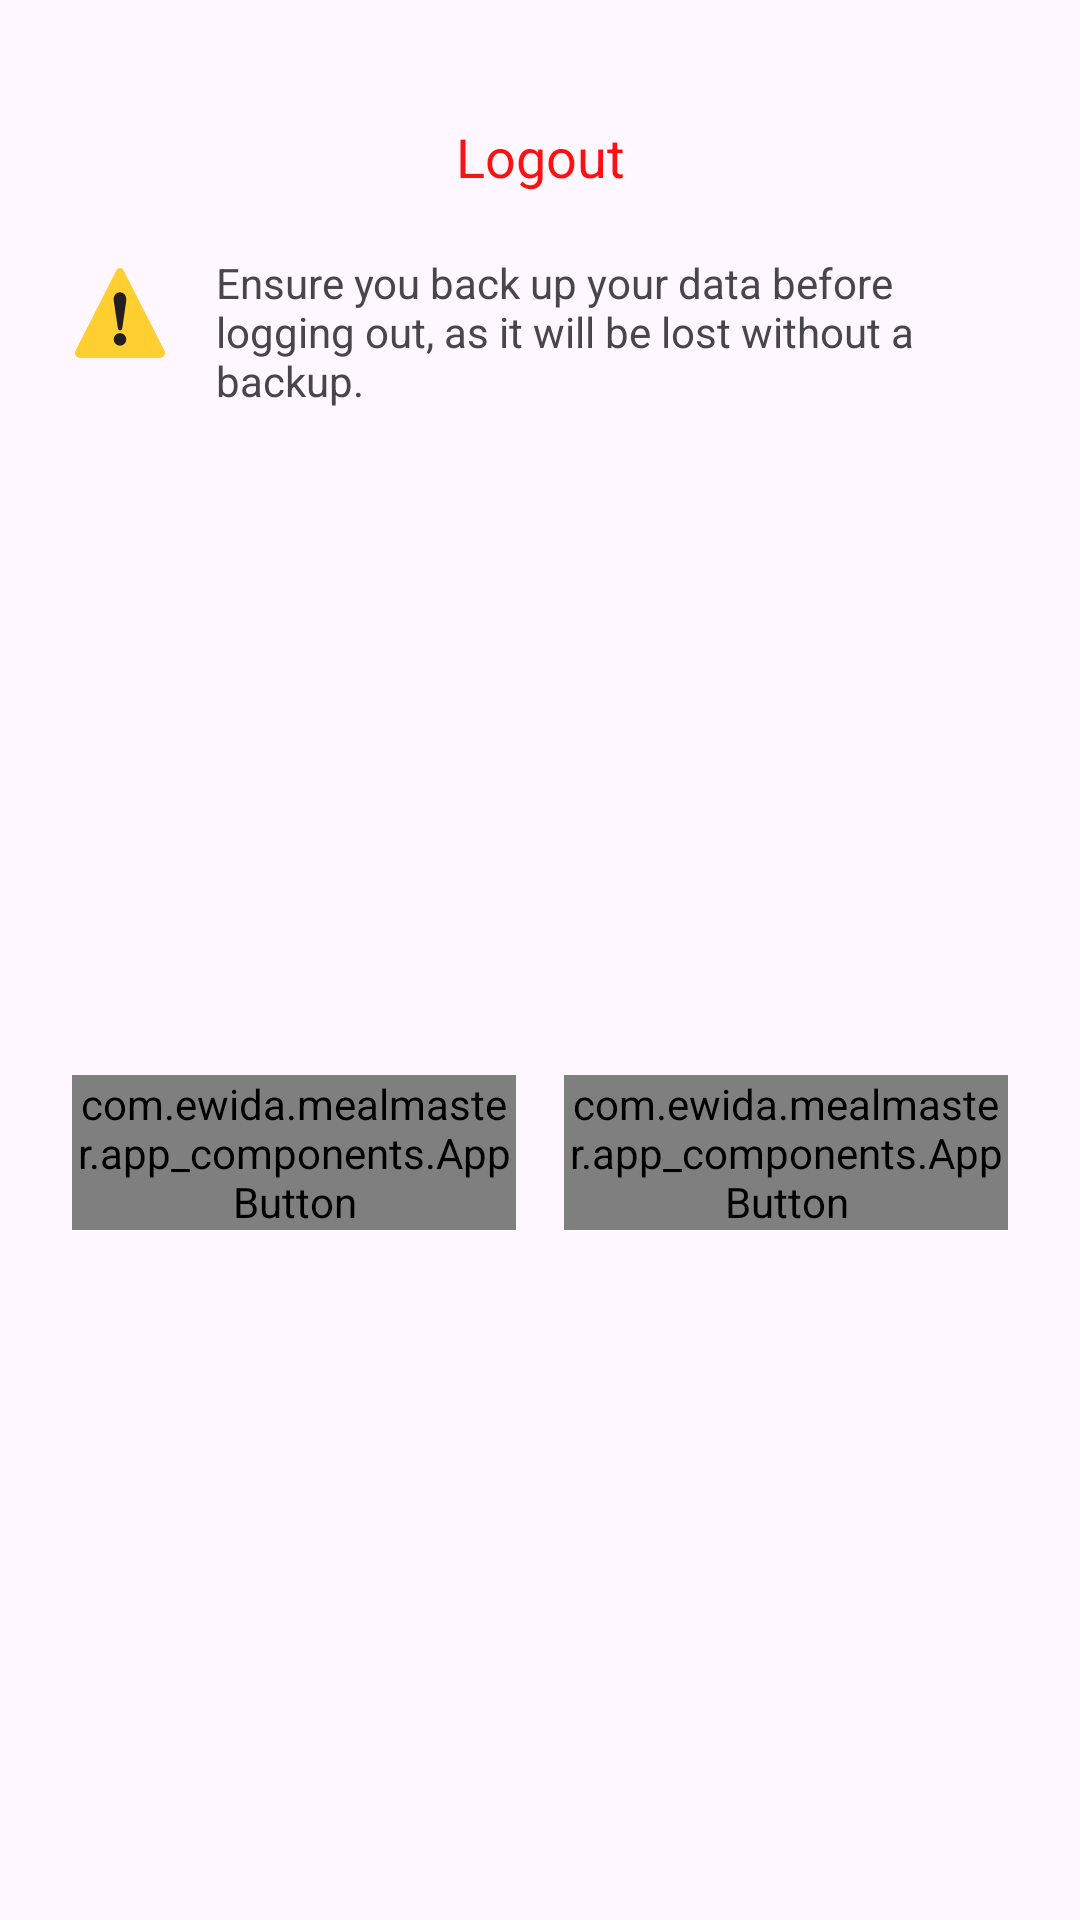

Locate icon controls on the screen. Image size 1080×1920, boxes as (x1, y1, x2, y2).
warning: (75, 268, 165, 358)
